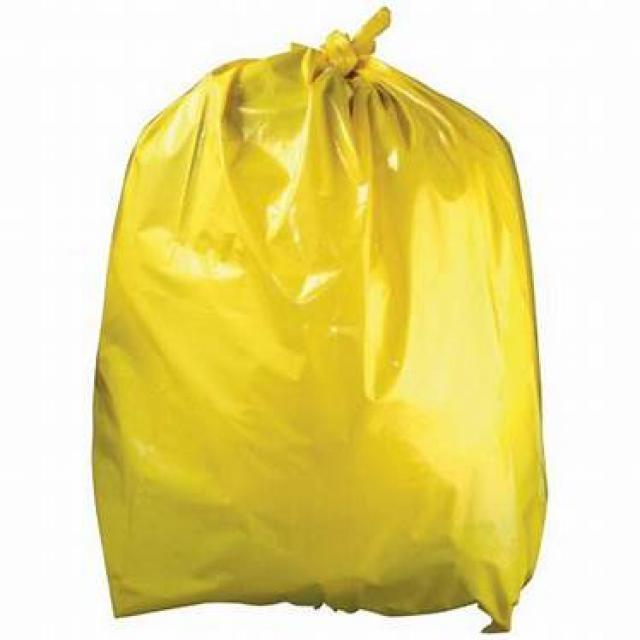waste: (100, 21, 545, 616)
